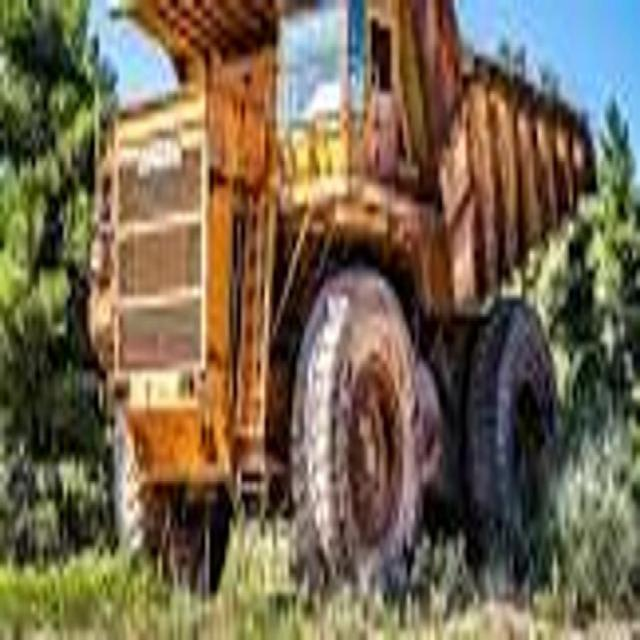dump_truck: (87, 0, 598, 604)
